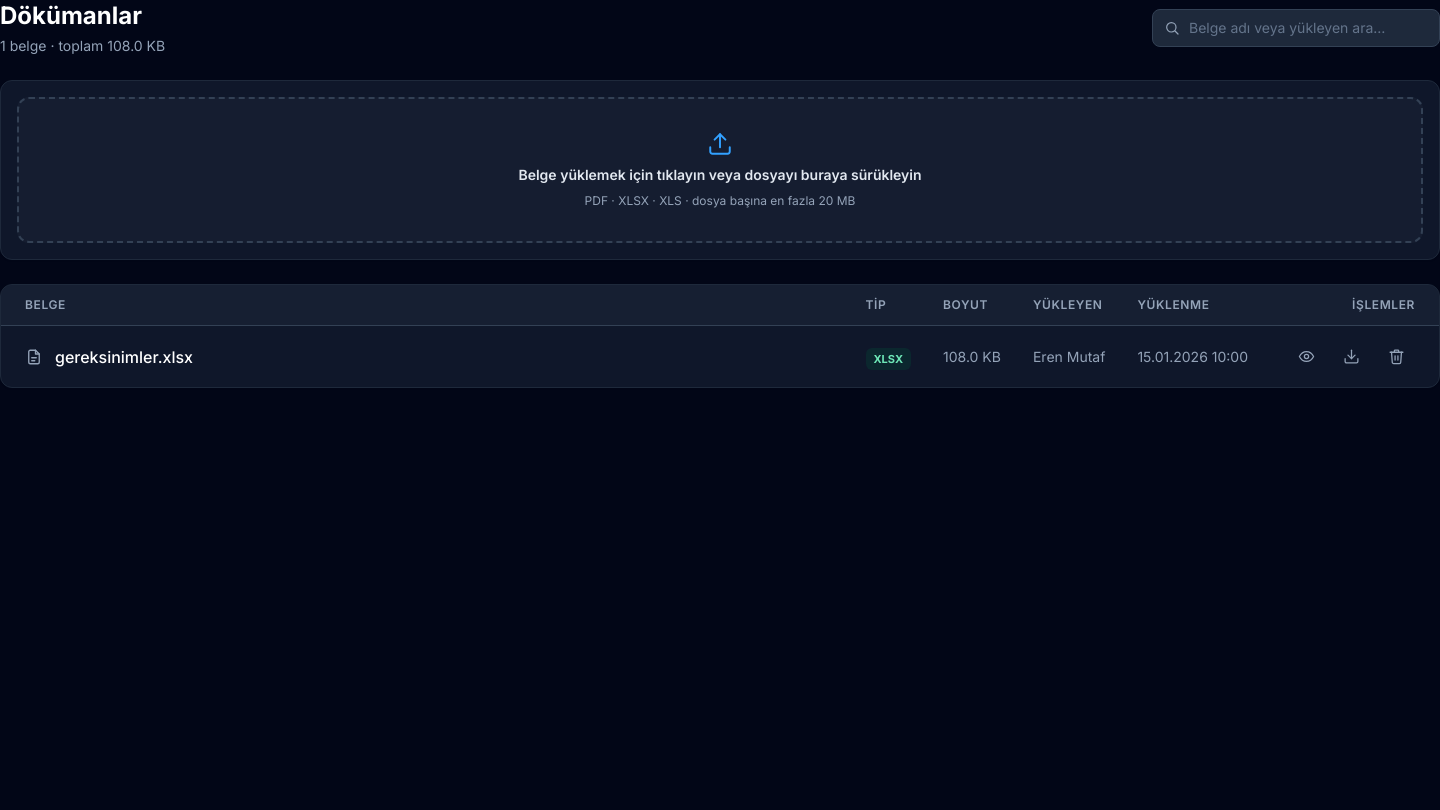
Test: DocumentLibrary — belge kütüphanesi › Excel dosyasının adına tıklayınca sayfa içinde tablo önizlemesi açılır
Click the button "gereksinimler.xlsx": (124, 356) [25,344,826,368]
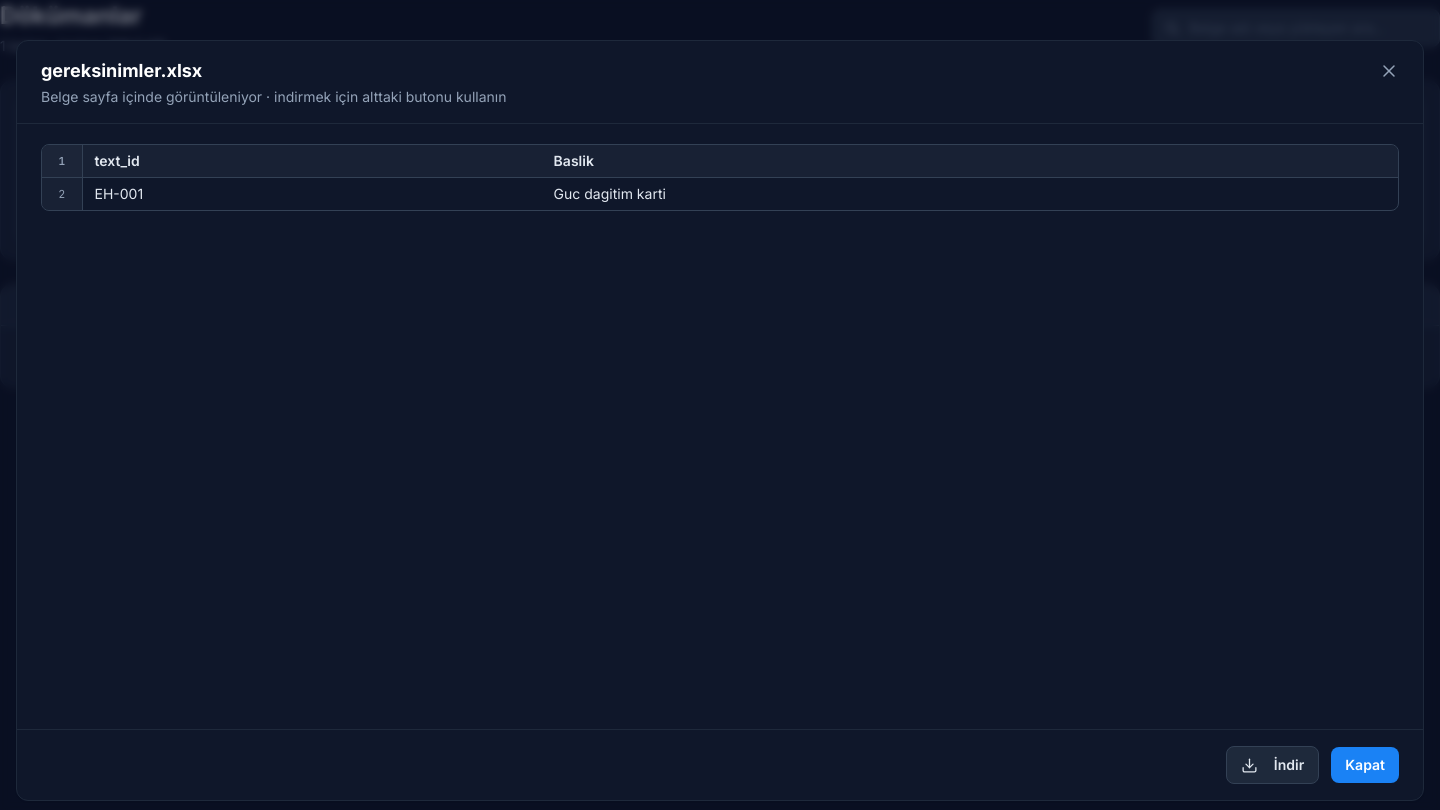
Result: the text "Guc dagitim karti" is shown at [542,178,1398,210]
